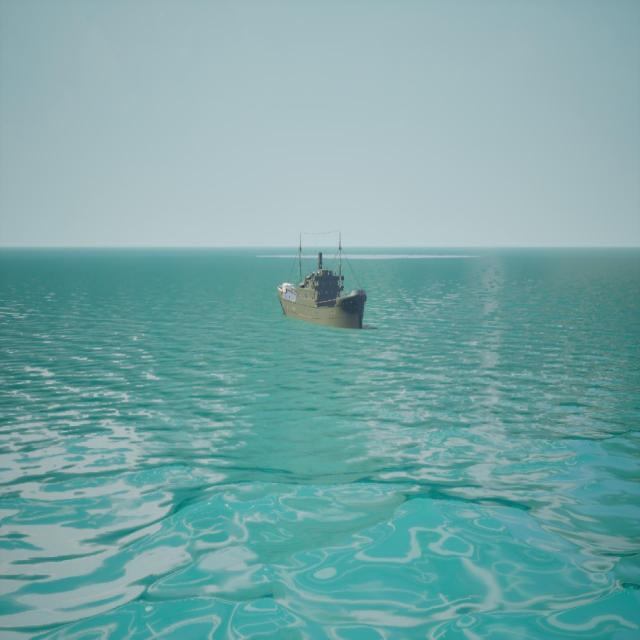fishing ship: (278, 230, 369, 333)
